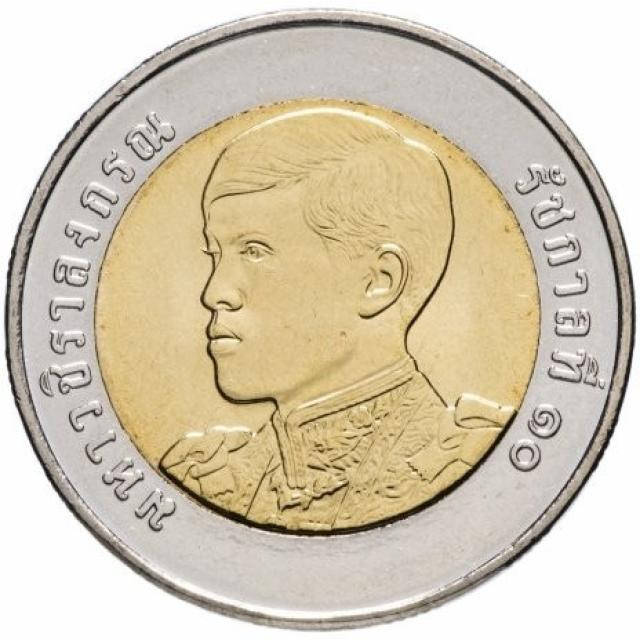10 Bath: (1, 1, 640, 635)
